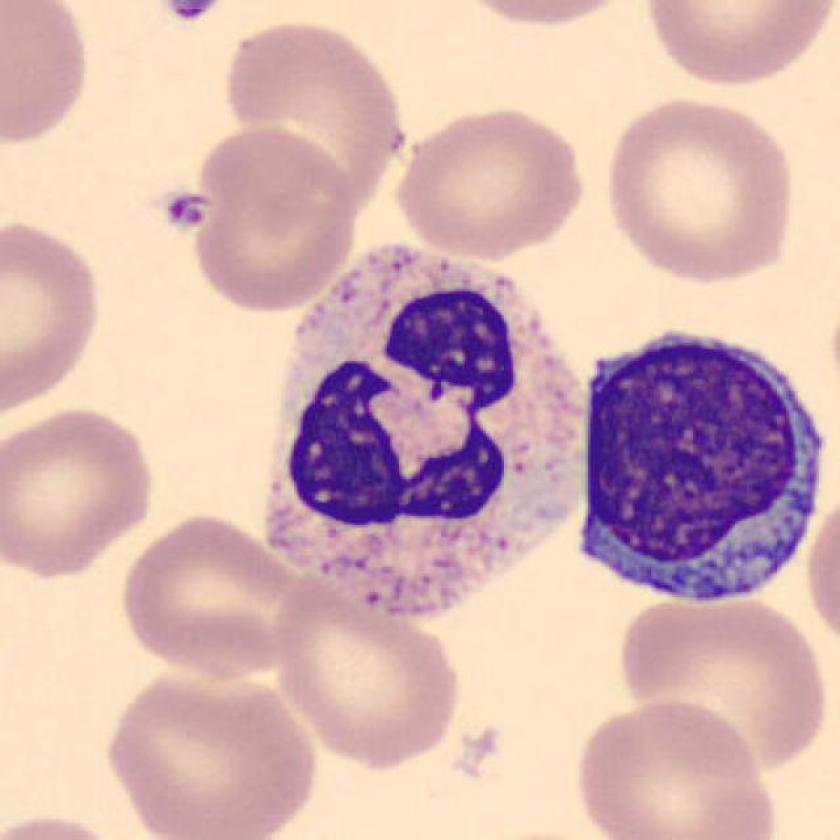lymphocyte: (580, 332, 820, 602)
neutrophil: (268, 249, 588, 613)
